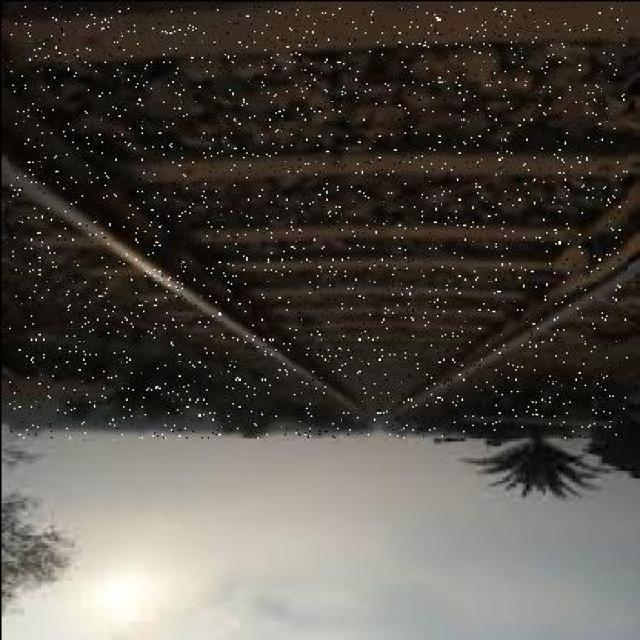rail: (9, 6, 627, 437)
